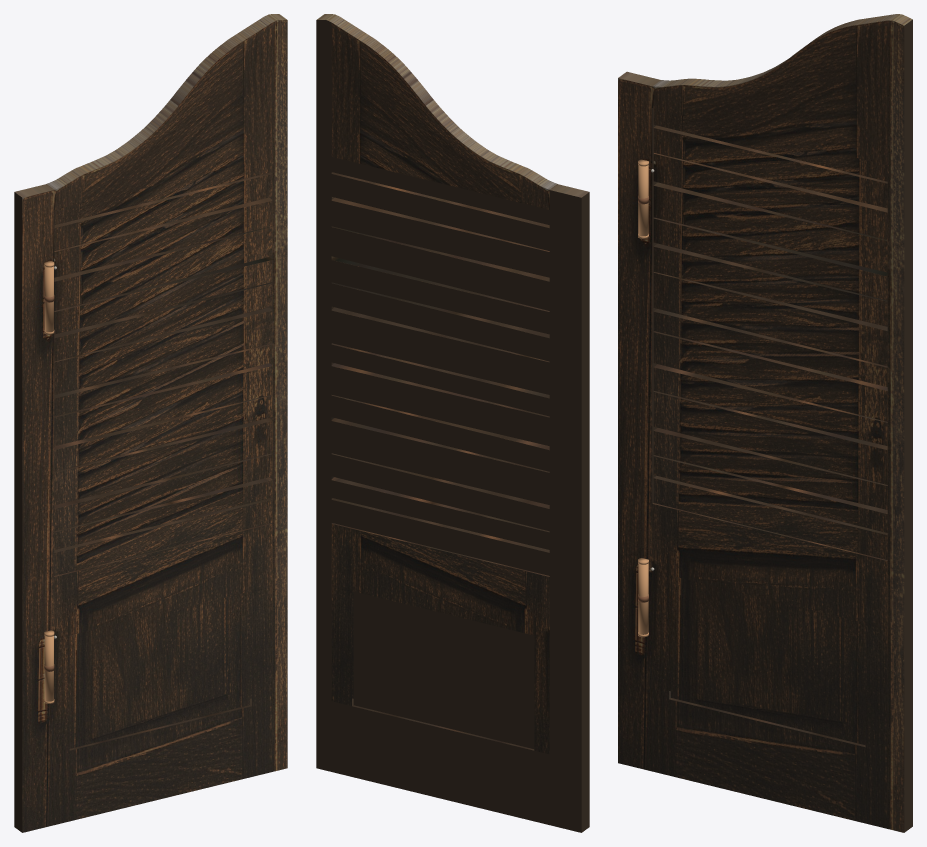
Rendered from saloon_door.glb.
3 views of the same model, side by side, from view 1: azimuth 30°, elevation 25°; view 2: azimuth 150°, elevation 25°; view 3: azimuth 330°, elevation 25° (orthographic). The views are drawn at different scales.
Parts seen in each view (by area): view 1: Frame, Panel, Slat_07, Slat_11, Slat_04, Slat_09, Slat_03, Slat_06, Slat_14, Slat_02, Slat_05, Slat_12 (+6 smaller); view 2: Frame, Panel, Slat_07, Slat_11, Slat_04, Slat_09, Slat_03, Slat_06, Slat_14, Slat_02, Slat_05, Slat_12 (+4 smaller); view 3: Frame, Panel, Slat_07, Slat_11, Slat_04, Slat_09, Slat_03, Slat_06, Slat_14, Slat_02, Slat_05, Slat_12 (+6 smaller).
Boxes of the visible parts, x1=… form: Frame: x1=14, y1=14, x2=287, y2=832; Panel: x1=69, y1=591, x2=249, y2=748; Slat_07: x1=54, y1=307, x2=272, y2=394; Slat_11: x1=54, y1=418, x2=272, y2=504; Slat_04: x1=54, y1=226, x2=272, y2=310; Slat_09: x1=54, y1=363, x2=272, y2=445; Slat_03: x1=54, y1=197, x2=272, y2=277; Slat_06: x1=54, y1=282, x2=272, y2=361; Slat_14: x1=54, y1=498, x2=272, y2=575; Slat_02: x1=54, y1=172, x2=272, y2=250; Slat_05: x1=54, y1=257, x2=272, y2=334; Slat_12: x1=54, y1=453, x2=272, y2=531; Frame: x1=316, y1=14, x2=589, y2=832; Panel: x1=353, y1=591, x2=534, y2=748; Slat_07: x1=331, y1=307, x2=549, y2=394; Slat_11: x1=331, y1=418, x2=549, y2=504; Slat_04: x1=331, y1=226, x2=549, y2=310; Slat_09: x1=331, y1=363, x2=549, y2=445; Slat_03: x1=331, y1=197, x2=549, y2=277; Slat_06: x1=331, y1=282, x2=549, y2=361; Slat_14: x1=331, y1=498, x2=549, y2=575; Slat_02: x1=331, y1=172, x2=549, y2=250; Slat_05: x1=331, y1=257, x2=549, y2=334; Slat_12: x1=331, y1=453, x2=549, y2=531; Frame: x1=618, y1=14, x2=912, y2=832; Panel: x1=671, y1=575, x2=865, y2=745; Slat_07: x1=653, y1=272, x2=887, y2=366; Slat_11: x1=653, y1=391, x2=887, y2=484; Slat_04: x1=653, y1=182, x2=887, y2=272; Slat_09: x1=653, y1=331, x2=887, y2=421; Slat_03: x1=653, y1=153, x2=887, y2=240; Slat_06: x1=653, y1=243, x2=887, y2=326; Slat_14: x1=653, y1=476, x2=887, y2=559; Slat_02: x1=653, y1=125, x2=887, y2=208; Slat_05: x1=653, y1=217, x2=887, y2=300; Slat_12: x1=653, y1=428, x2=887, y2=509.
Size of the model in its own units: 0.7969 by 2.15 by 0.0644.
Materials: 4 (1 with a texture image).
